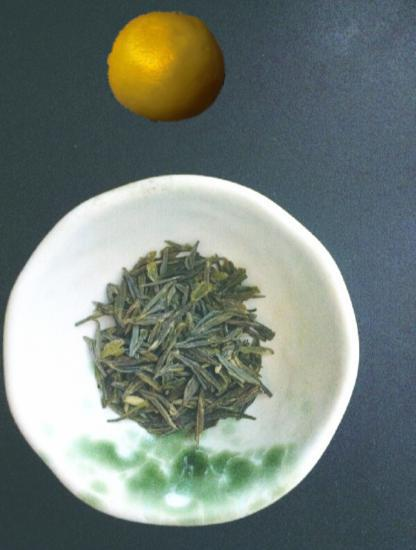Grapefruit: (107, 7, 227, 127)
